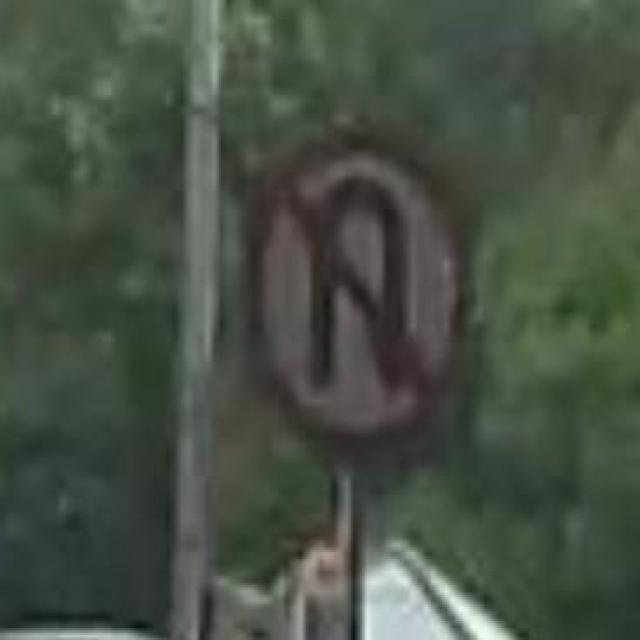traffic sign: (247, 138, 472, 464)
